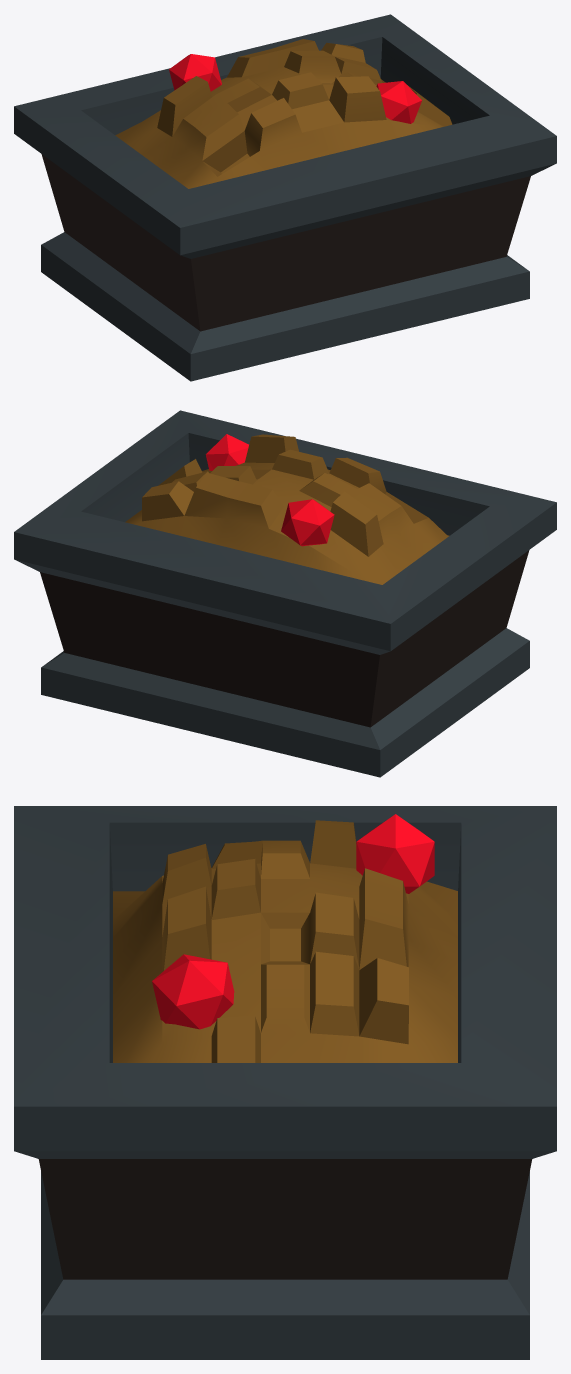
The model's file is chest_common.obj.
3 renders of one model, top to bottom at view 1: azimuth 30°, elevation 25°; view 2: azimuth 150°, elevation 25°; view 3: azimuth 270°, elevation 25°, orthographic. The views are drawn at different scales.
Visible parts, largest first — view 1: chest_common_Cube.2491; view 2: chest_common_Cube.2491; view 3: chest_common_Cube.2491.
Boxes of the visible parts, x1,y1,x2,y2 form: chest_common_Cube.2491: [14, 14, 556, 381]; chest_common_Cube.2491: [14, 410, 556, 777]; chest_common_Cube.2491: [14, 806, 556, 1359].
Size of the model in its own units: 1.44 by 0.8099 by 1.1.
